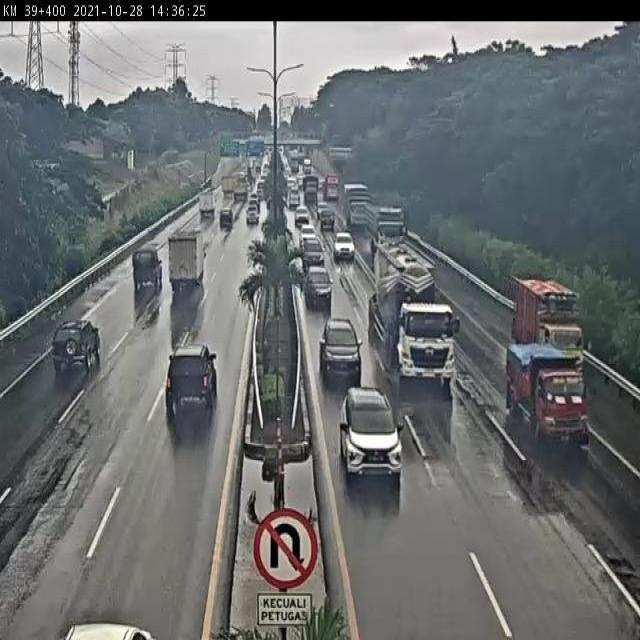big truck: (369, 247, 455, 388), (366, 200, 406, 261), (169, 233, 207, 290)
car: (339, 385, 405, 483), (165, 342, 219, 414), (49, 319, 101, 376), (319, 316, 362, 380), (129, 245, 163, 292), (302, 266, 333, 306), (303, 239, 325, 269), (334, 232, 356, 260), (216, 207, 235, 230), (299, 224, 318, 244), (245, 205, 261, 228)
small truck: (505, 344, 592, 452), (511, 272, 583, 344), (197, 192, 215, 220)
